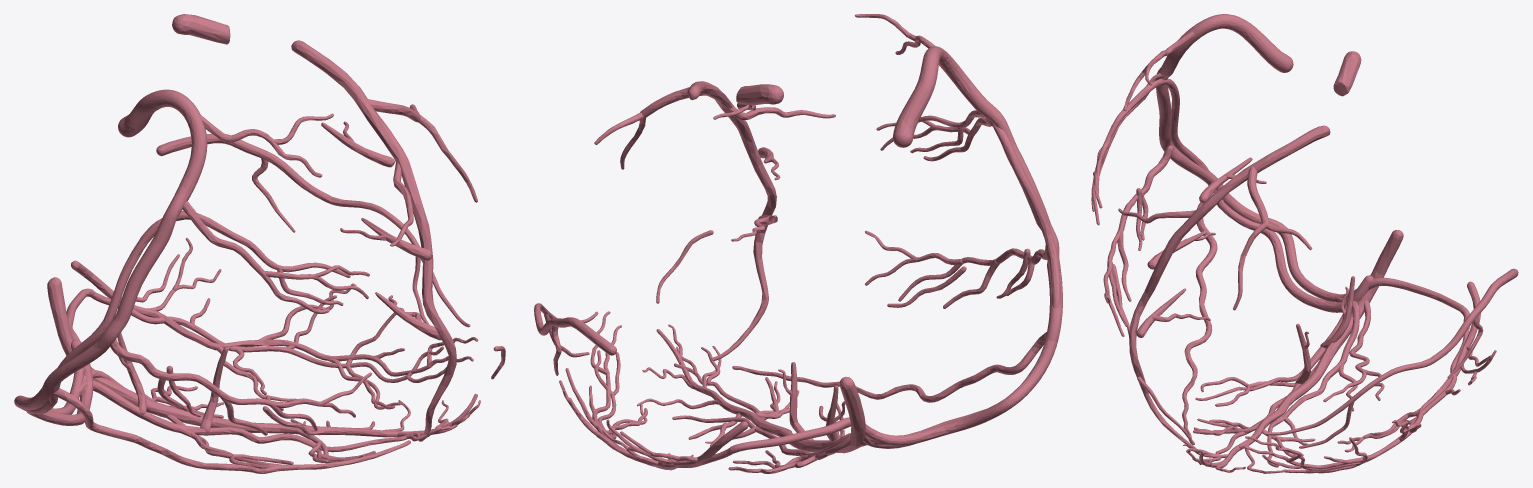
File: cardiovascular-07.glb
The picture shows the model from 3 angles, left to right: view 1: azimuth 30°, elevation 25°; view 2: azimuth 150°, elevation 25°; view 3: azimuth 270°, elevation 25°; orthographic projection. The views are drawn at different scales.
Parts seen in each view (by area): view 1: FJ2723, FJ2665, FJ2678, FJ2727, FJ2703, FJ2692, FJ2701, FJ2724, FJ2714, FJ2672, FJ2671, FJ2725 (+13 smaller); view 2: FJ2723, FJ2665, FJ2678, FJ2727, FJ2724, FJ2703, FJ2701, FJ2672, FJ2693, FJ2737, FJ2661, FJ2736 (+2 smaller); view 3: FJ2723, FJ2665, FJ2678, FJ2703, FJ2731, FJ2727, FJ2701, FJ2693, FJ2672, FJ2724, FJ2725, FJ2737 (+12 smaller).
Boxes of the visible parts, x1,y1,x2,y2 form: FJ2723: (14,89,207,414); FJ2665: (291,40,456,435); FJ2678: (47,277,477,437); FJ2727: (52,388,410,473); FJ2703: (156,133,470,327); FJ2692: (79,380,449,452); FJ2701: (71,260,431,376); FJ2724: (49,220,159,403); FJ2714: (91,291,406,382); FJ2672: (110,339,317,430); FJ2671: (182,201,329,313); FJ2725: (158,211,350,277); FJ2723: (729,46,1062,453); FJ2665: (687,81,776,361); FJ2678: (656,329,865,452); FJ2727: (732,332,1046,402); FJ2724: (998,132,1060,308); FJ2703: (534,303,616,355); FJ2701: (592,372,748,470); FJ2672: (898,244,1048,301); FJ2693: (672,415,890,457); FJ2737: (736,84,783,104); FJ2661: (723,106,835,120); FJ2736: (778,362,813,440); FJ2723: (1156,14,1469,317); FJ2665: (1129,125,1330,450); FJ2678: (1199,230,1403,467); FJ2703: (1262,268,1518,435); FJ2731: (1218,203,1373,312); FJ2727: (1182,192,1217,445); FJ2701: (1286,281,1481,469); FJ2693: (1267,298,1359,467); FJ2672: (1107,145,1173,326); FJ2724: (1168,79,1224,207); FJ2725: (1095,78,1172,193); FJ2737: (1333,51,1361,96).
Size of the model in its own units: 0.0992 by 0.0865 by 0.0938.
